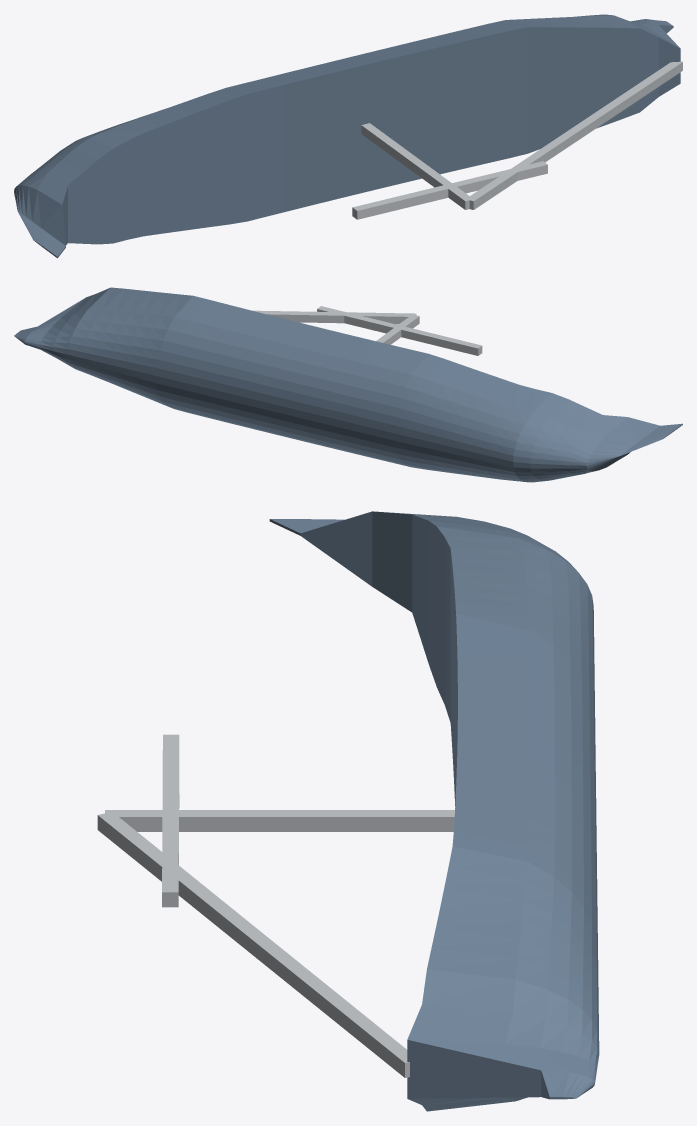
Rendered from loft-trireme-highside.glb.
The picture shows the model from 3 angles, top to bottom: view 1: azimuth 30°, elevation 25°; view 2: azimuth 150°, elevation 25°; view 3: azimuth 270°, elevation 25°; orthographic projection. The views are drawn at different scales.
Visible parts, largest first — view 1: loft-trireme-highside; view 2: loft-trireme-highside; view 3: loft-trireme-highside.
Boxes of the visible parts, box(x1,y1,x2,y2) form: loft-trireme-highside: box(14, 14, 682, 258); loft-trireme-highside: box(14, 287, 682, 482); loft-trireme-highside: box(97, 511, 599, 1111).
Size of the model in its own units: 1.98 by 0.345 by 0.7261.
